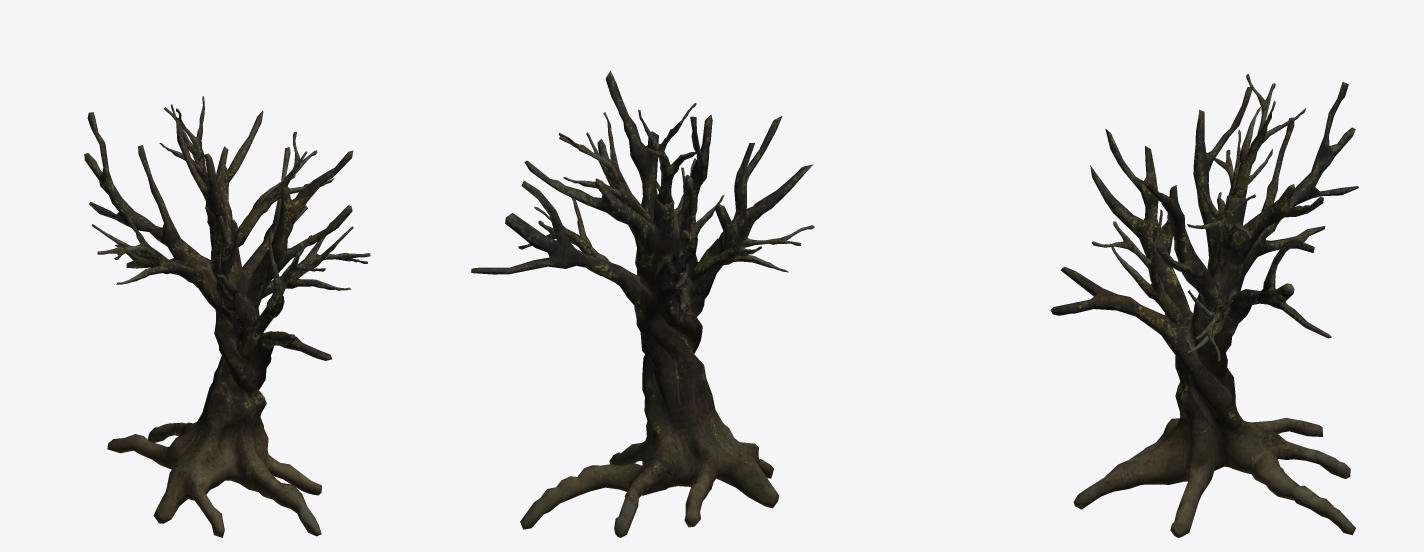
3 views of the same model, side by side, from view 1: azimuth 30°, elevation 25°; view 2: azimuth 150°, elevation 25°; view 3: azimuth 270°, elevation 25° (orthographic). The views are drawn at different scales.
Visible parts, largest first — view 1: tree2; view 2: tree2; view 3: tree2.
Part boxes in pixels (x1,y1,x2,y2): tree2: [84, 96, 370, 537]; tree2: [471, 71, 814, 537]; tree2: [1050, 74, 1358, 537].
Size of the model in its own units: 490 by 526 by 440.
2 materials, 2 textured.
